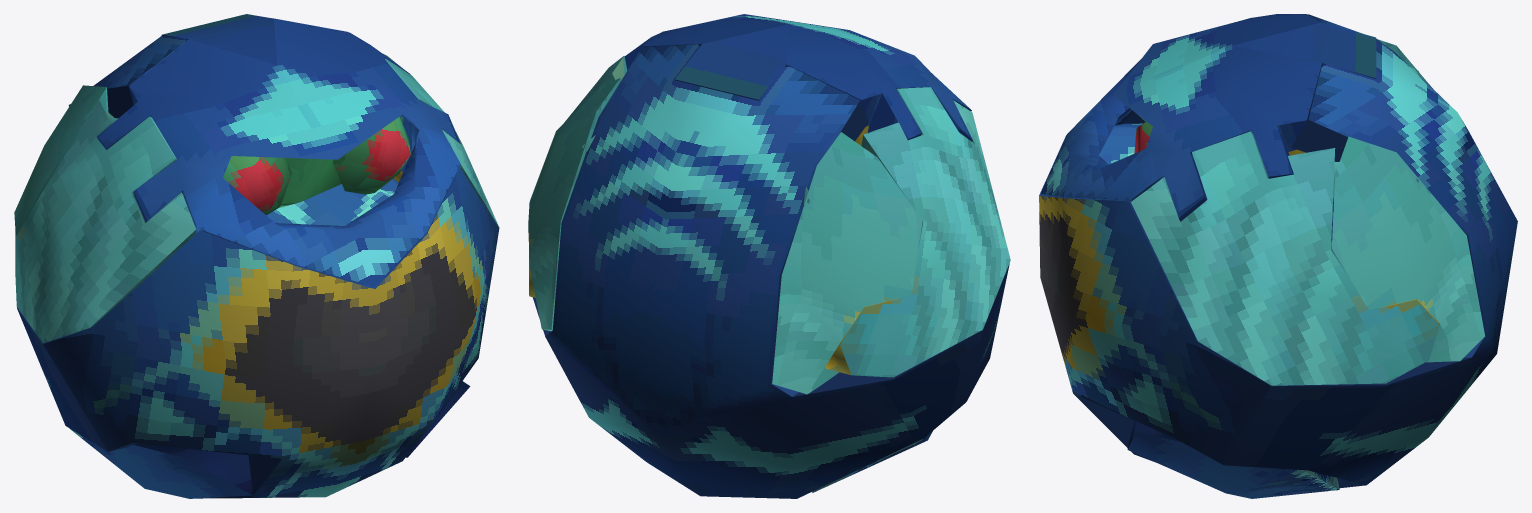
File: ball.glb
3 renders of one model, left to right at view 1: azimuth 30°, elevation 25°; view 2: azimuth 150°, elevation 25°; view 3: azimuth 270°, elevation 25°, orthographic.
Size of the model in its own units: 1.02 by 1 by 1.
Materials: 1 (1 with a texture image).
